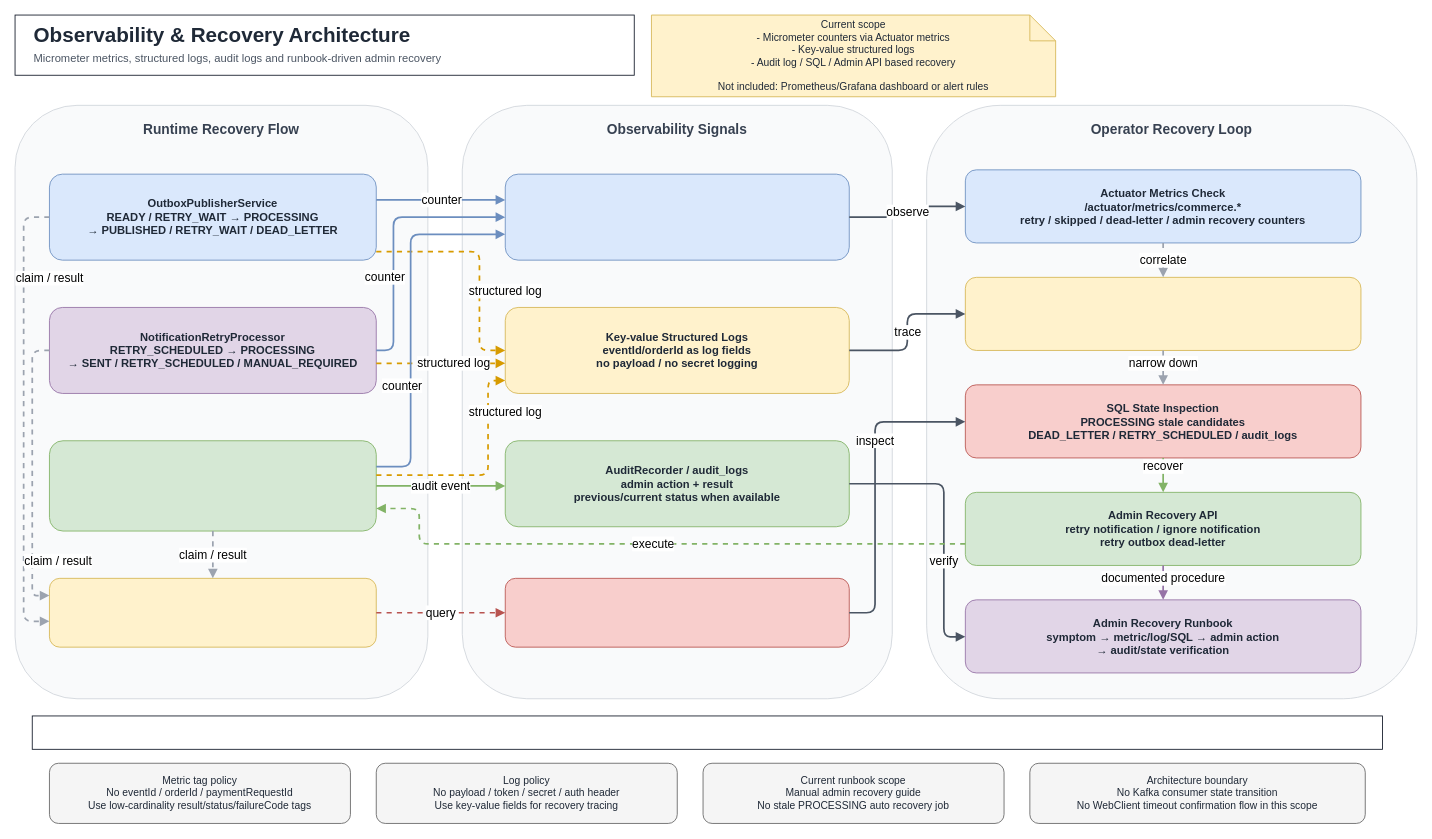
Image size: 1432x839. Some labels were removed from this diagram. Each missing label, with the centre of its shape:
"AdminReprocessingService notification retry / ignore outbox dead-letter retry" goes at (x=212, y=485).
"CommerceRecoveryMetrics Micrometer Counter wrapper low-cardinality tags only" goes at (x=676, y=216).
"DB State Transition Guard claim success = process claim failed = skipped" goes at (x=212, y=612).
"Operational Guardrails" goes at (x=706, y=732).
"SQL Inspection Targets orders / notification_events / outbox_events / audit_logs" goes at (x=676, y=612).
"Structured Log Search outbox_publish_* notification_retry_* admin_*_recovery_*" goes at (x=1162, y=313).
